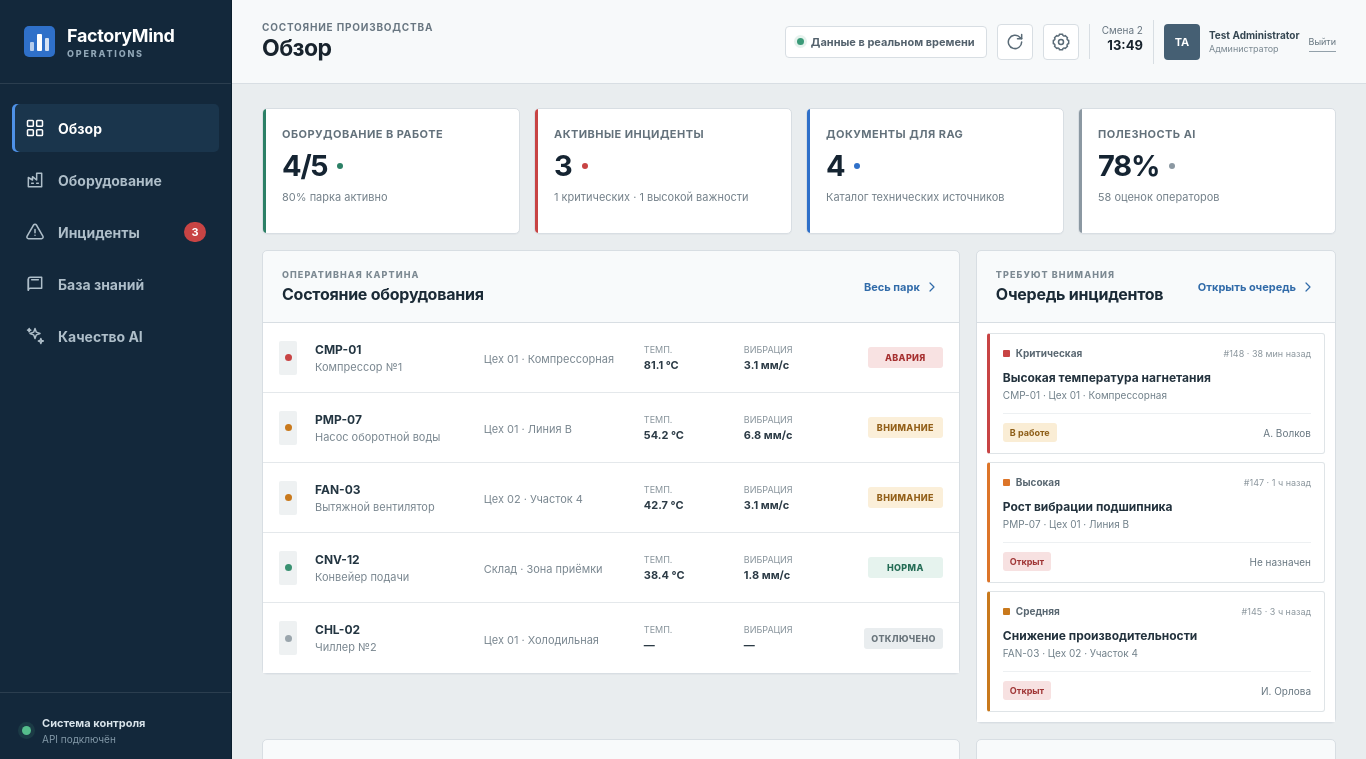
Test case: Навигация при сохранении инцидента › сохраняет список, фильтр и карточку после перезапуска приложения
The width and height of the screenshot is (1366, 759).
Later steps or results of the test are not shown.
Check: the text "Данные в реальном времени" is shown, box [785,26,987,58]
Click the button "Инциденты 3": (116, 232) [12,208,219,256]
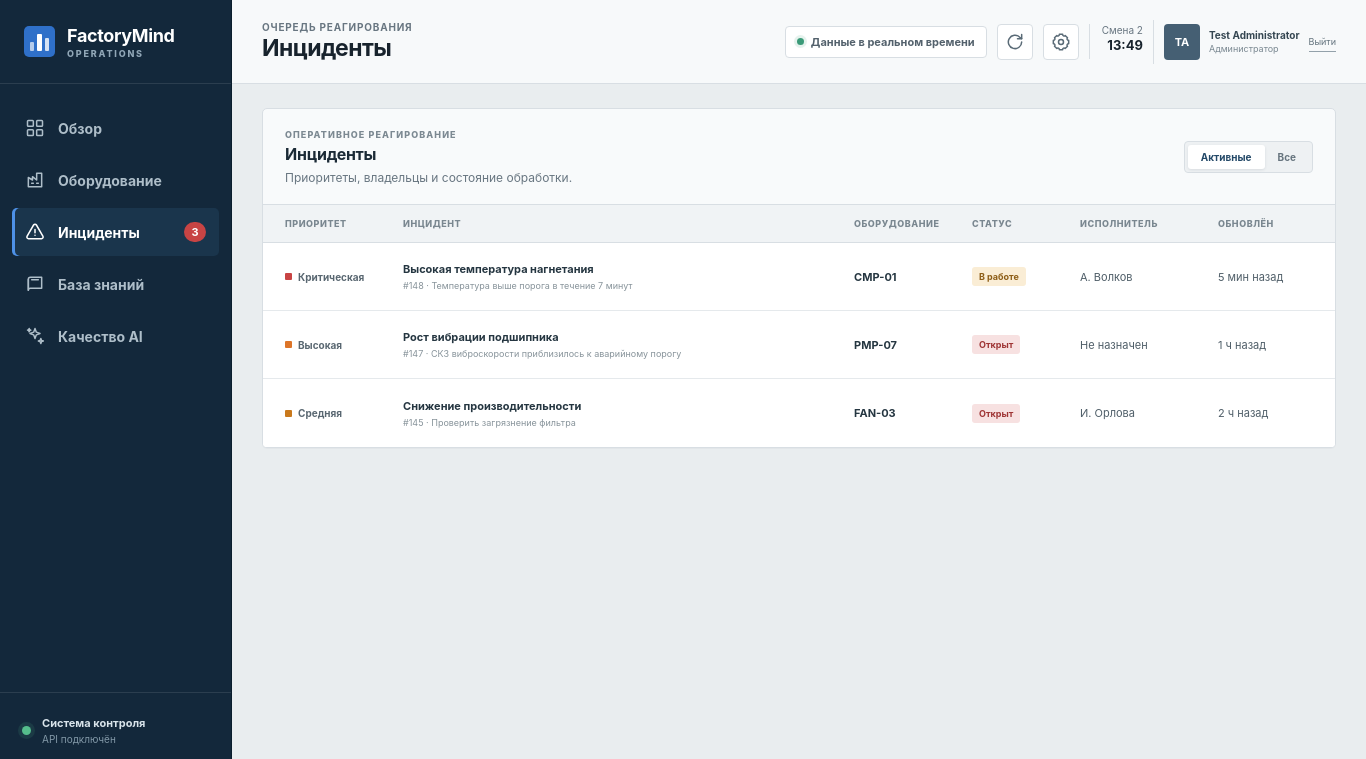
Click the button "Все": (1287, 156) [1264,144,1309,168]
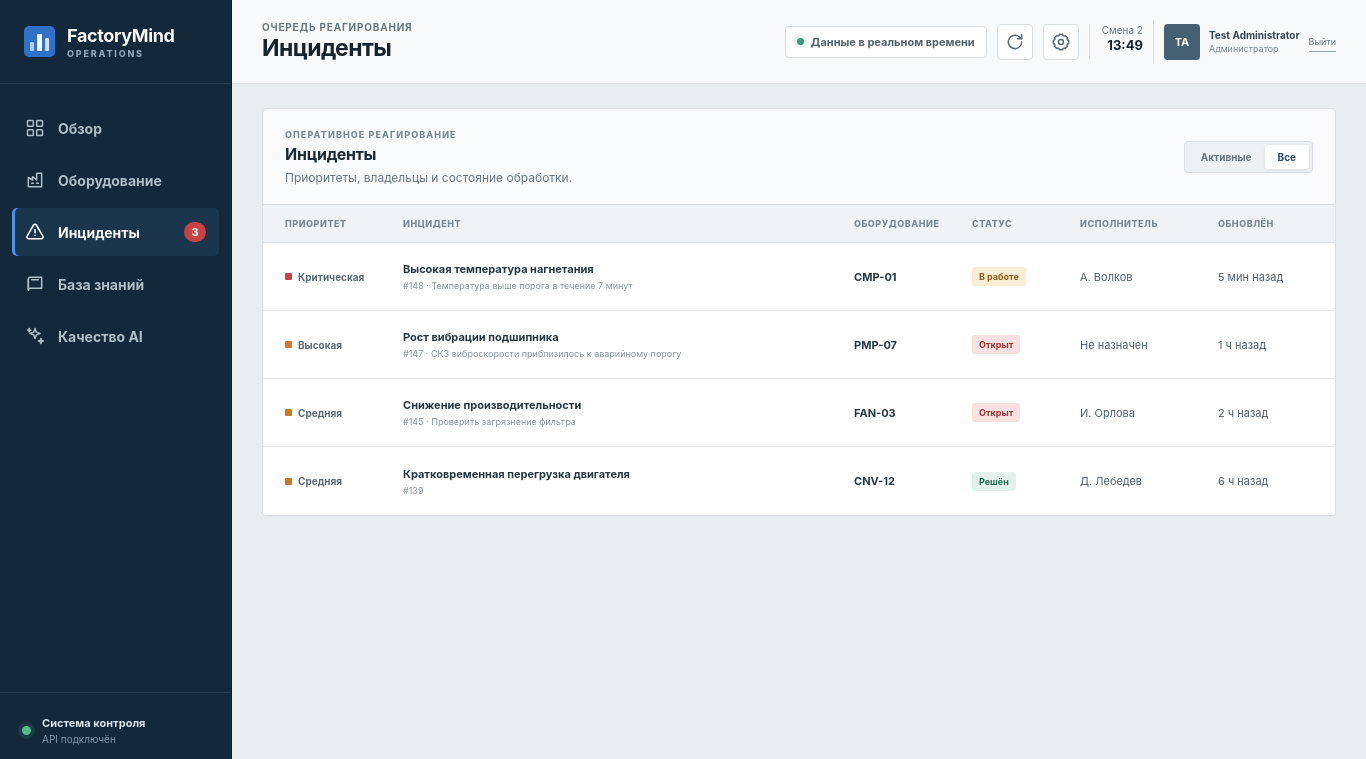
Click the button "Высокая температура нагнетания": (331, 276) [263,243,1335,311]
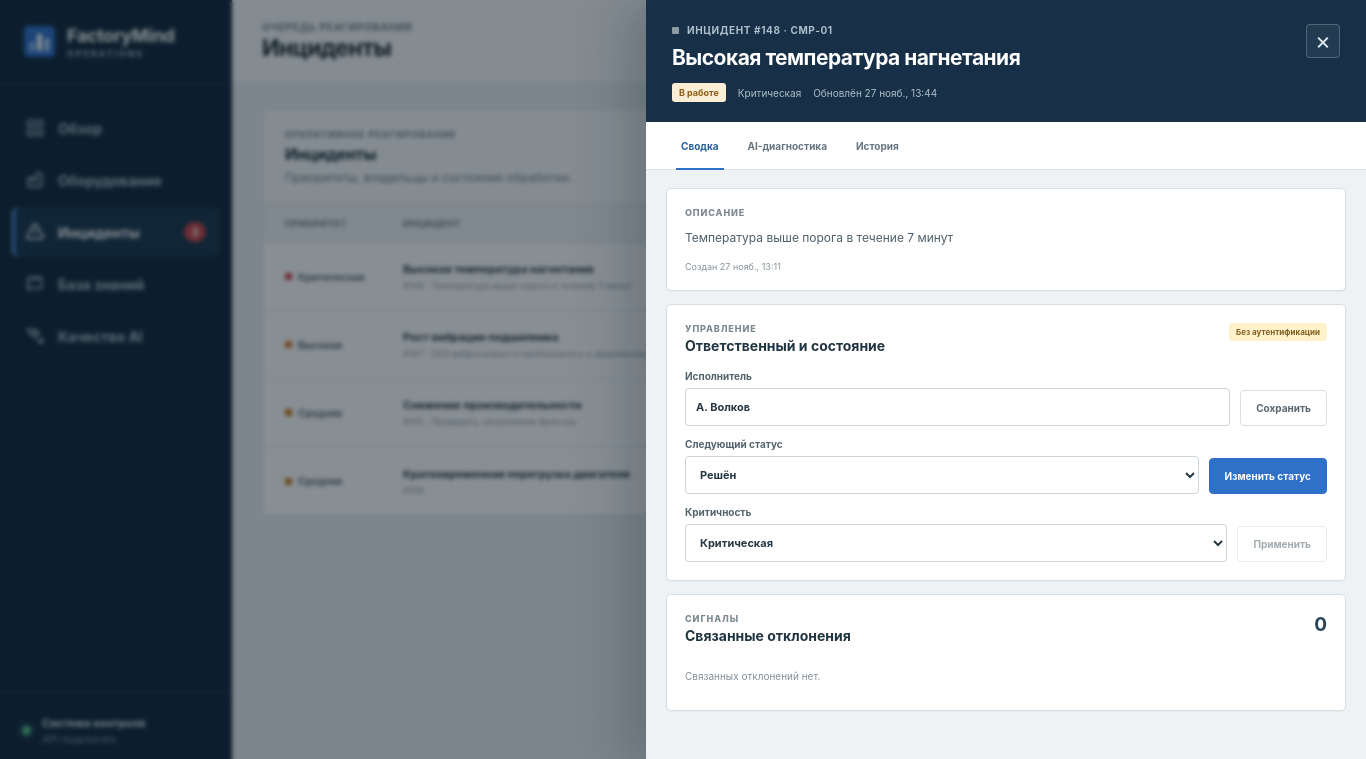
Select "Высокая" in the dropdown labelled "Критичность": (956, 543) [685,524,1227,562]
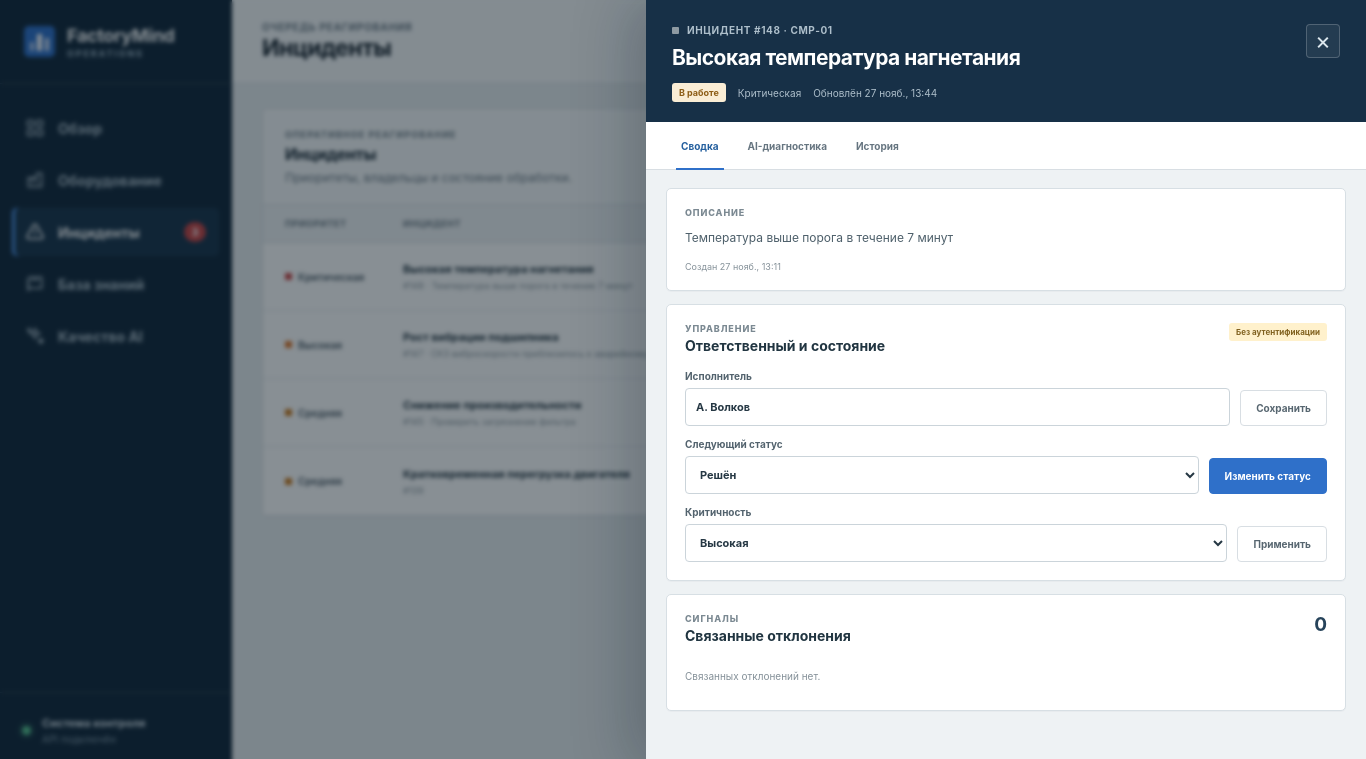
Click the button "Применить": (1282, 544) [1237,526,1327,562]
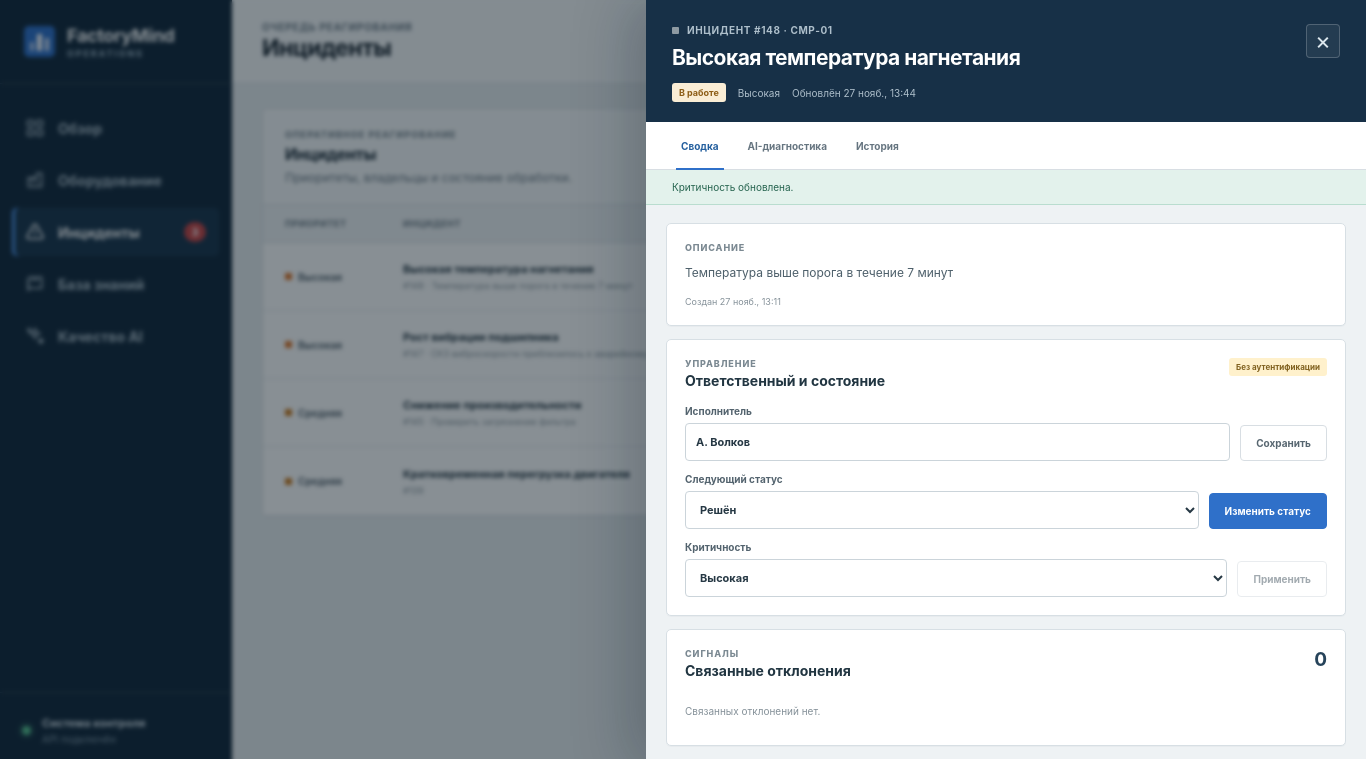
Check: the text "Критичность обновлена." is shown, box [646,170,1365,205]
